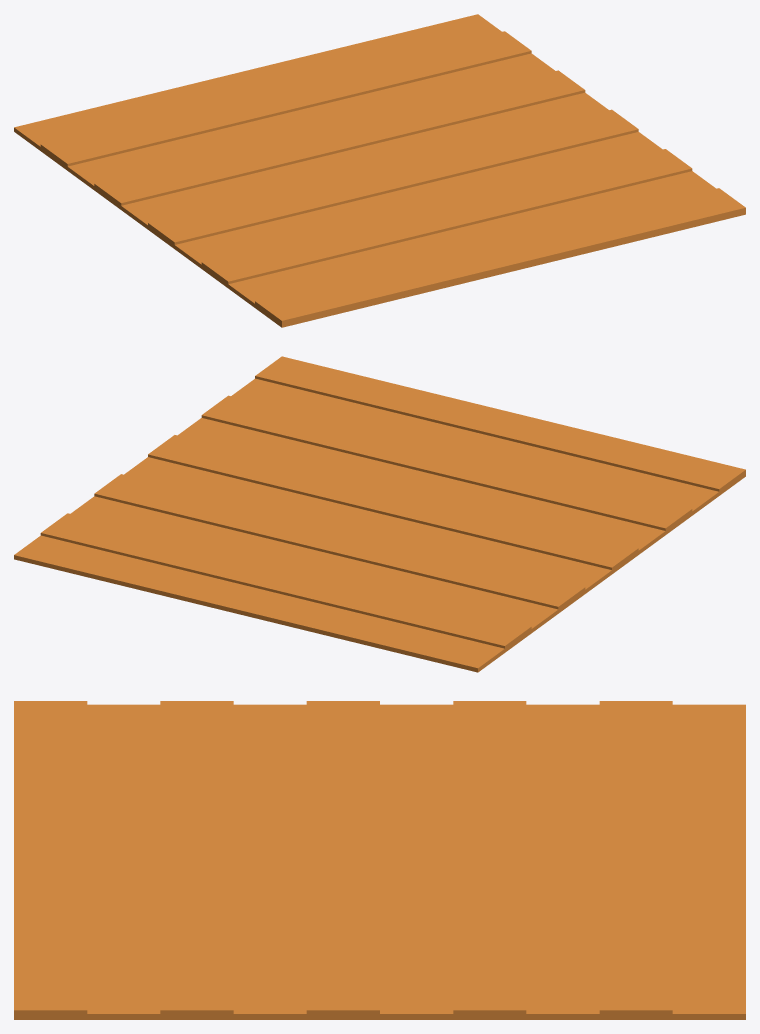
Rendered from chao1.fbx.
3 views of the same model, one above another, from view 1: azimuth 30°, elevation 25°; view 2: azimuth 150°, elevation 25°; view 3: azimuth 270°, elevation 25° (orthographic). The views are drawn at different scales.
Visible parts, largest first — view 1: Cube; view 2: Cube; view 3: Cube.
Part boxes in pixels (x1,y1,x2,y2): Cube: [14, 14, 745, 327]; Cube: [14, 356, 745, 672]; Cube: [14, 701, 745, 1019].
Bounding box in the file's own units: 200 × 2.85 × 200.
